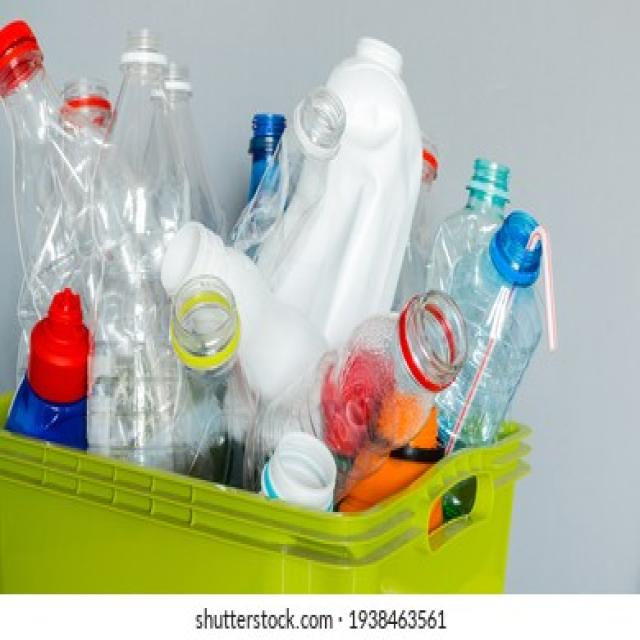plastic: (48, 69, 518, 425)
